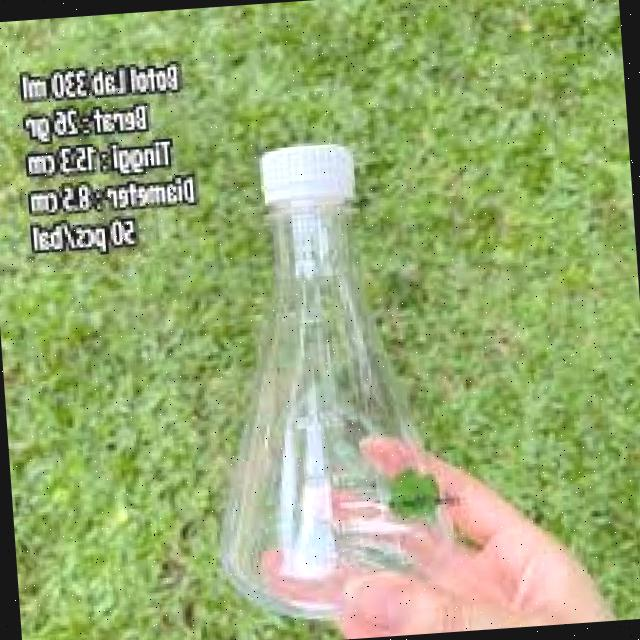bottle: (174, 113, 450, 614)
